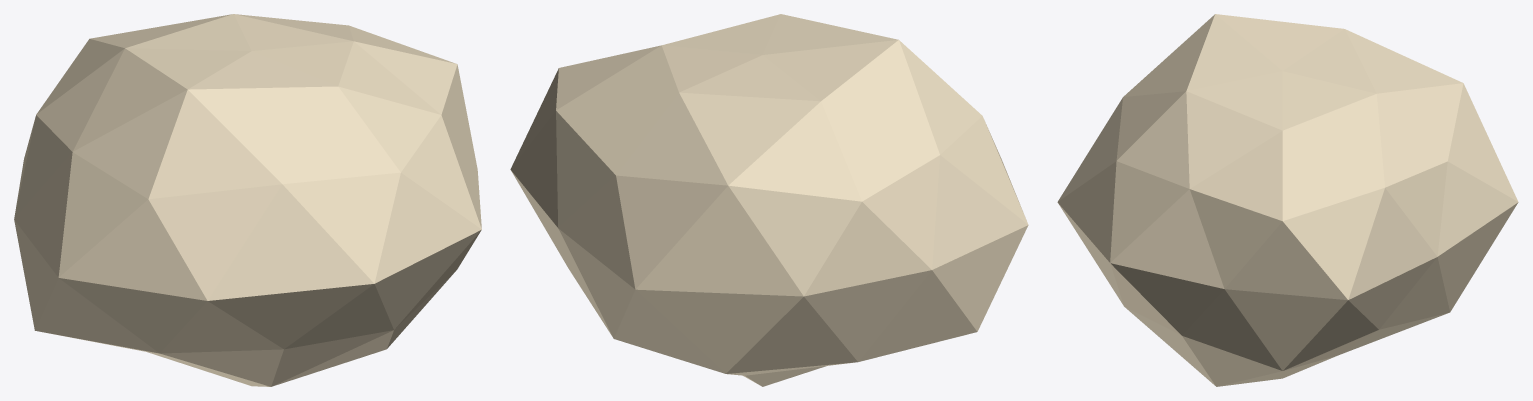
Rendered from TropicalIslet.glb.
3 renders of one model, left to right at view 1: azimuth 30°, elevation 25°; view 2: azimuth 150°, elevation 25°; view 3: azimuth 270°, elevation 25°, orthographic. The views are drawn at different scales.
Visible parts, largest first — view 1: TropicalIslet; view 2: TropicalIslet; view 3: TropicalIslet.
Boxes of the visible parts, x1=… form: TropicalIslet: x1=14, y1=14, x2=481, y2=386; TropicalIslet: x1=510, y1=14, x2=1028, y2=386; TropicalIslet: x1=1057, y1=14, x2=1518, y2=386.
Bounding box in the file's own units: 2.32 × 1.72 × 2.25.
